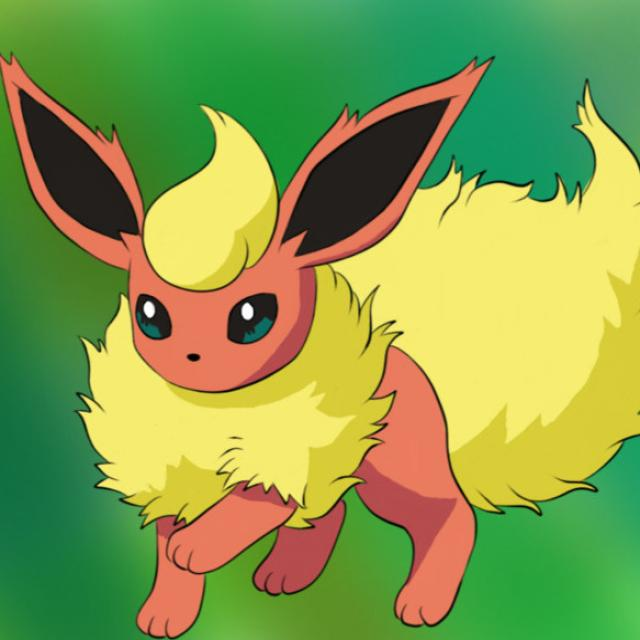Flareon: (0, 42, 640, 628)
